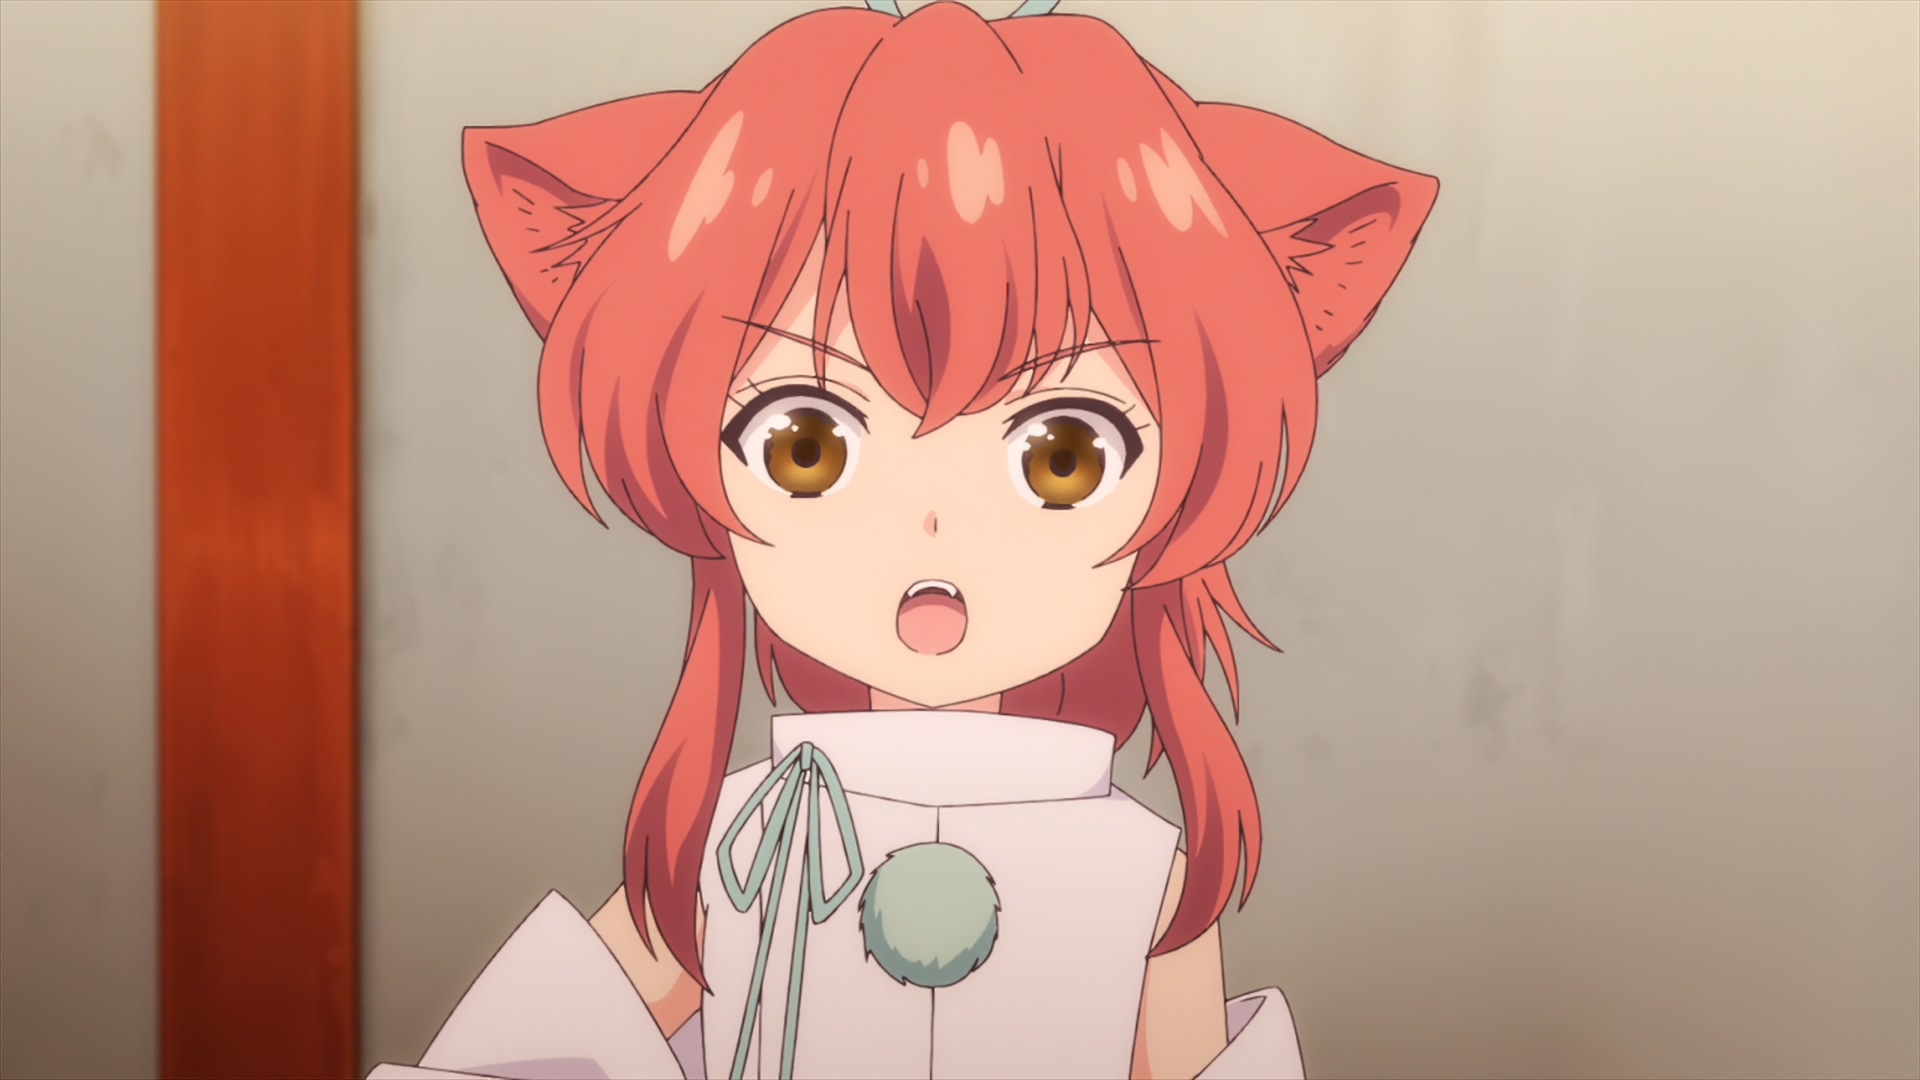椿: (368, 1, 1437, 1080)
